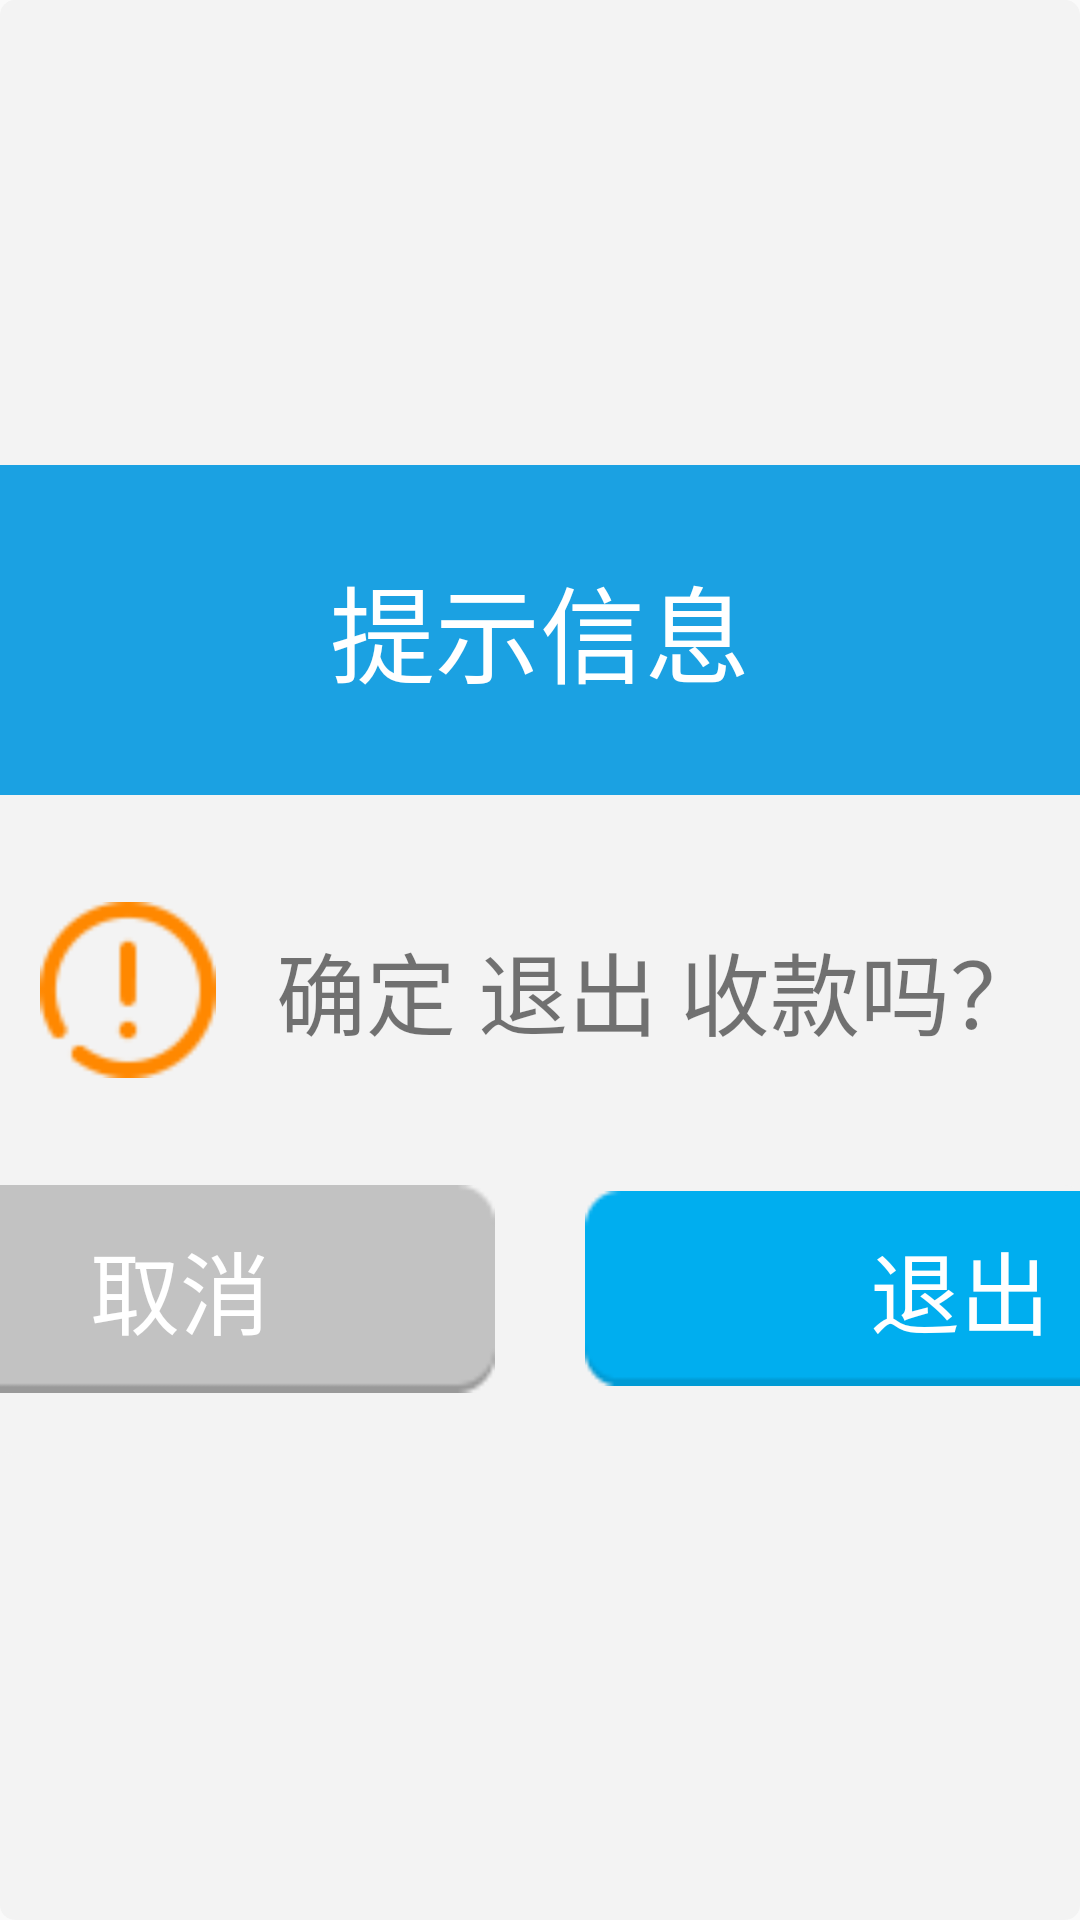

Screen size 1080px×1920px. Icon name, then its center in pixels as (x,y):
tishi: (128,990)
